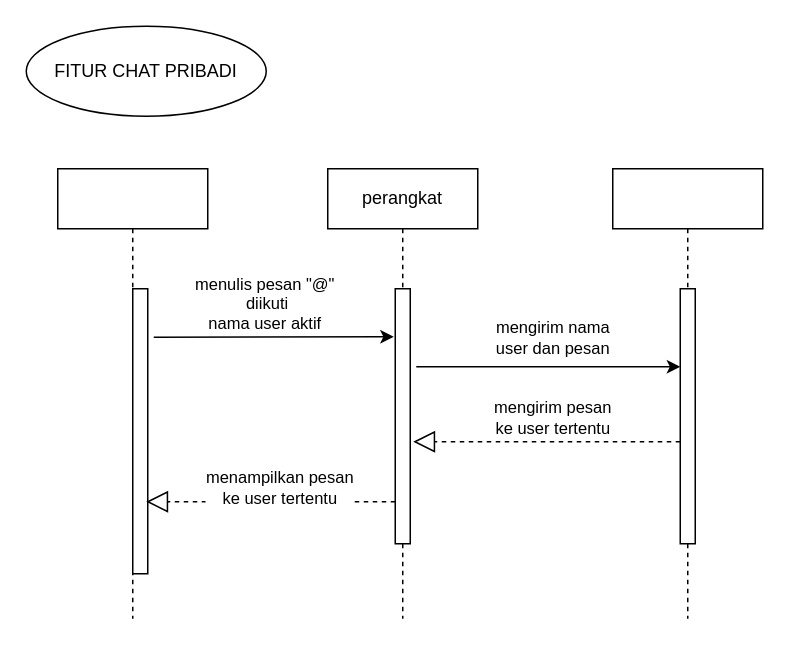
Some shapes in this 789 by 645 pixel diagram are drawn without their labels. Each missing label, with the box of its shape:
server: (611, 167, 763, 619)
user: (56, 167, 208, 619)
